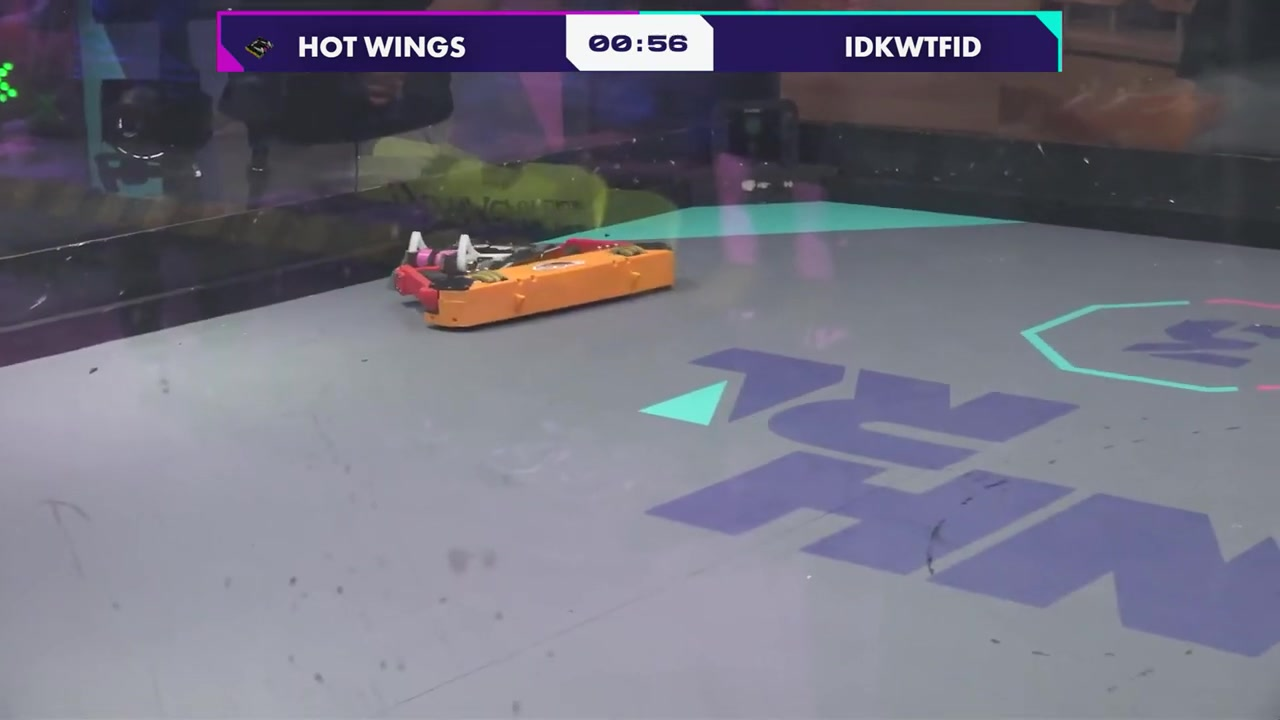combatbot: (392, 233, 676, 326), (402, 231, 529, 267)
